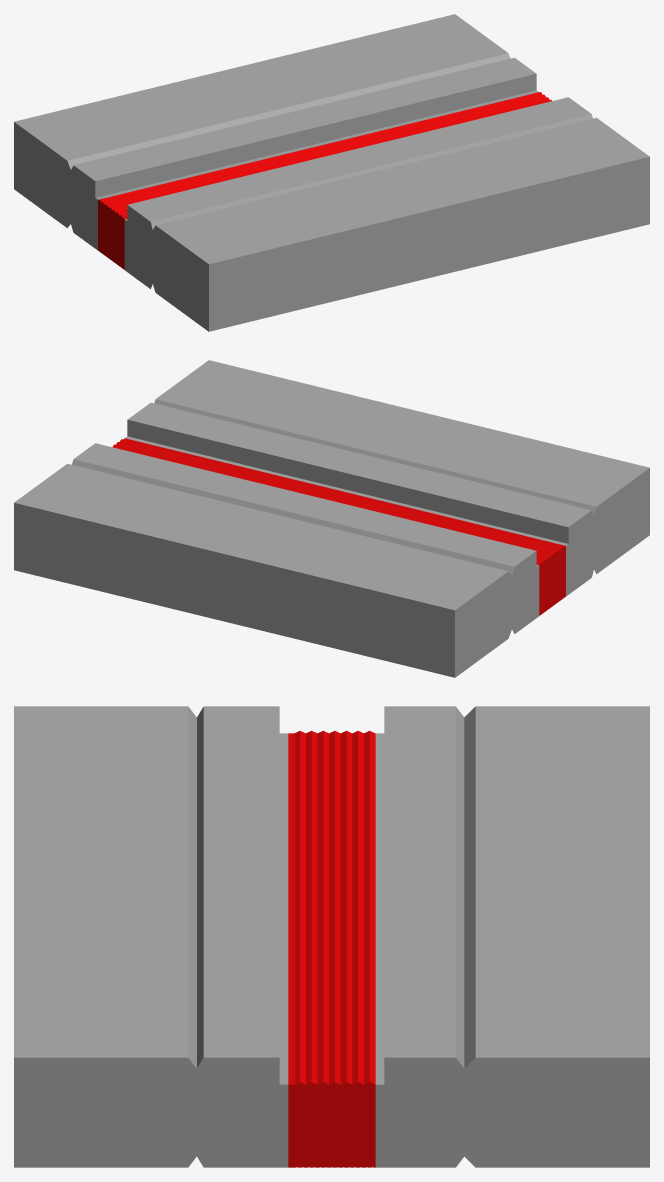
File: Wall.fbx
The picture shows the model from 3 angles, top to bottom: view 1: azimuth 30°, elevation 25°; view 2: azimuth 150°, elevation 25°; view 3: azimuth 270°, elevation 25°; orthographic projection. The views are drawn at different scales.
Visible parts, largest first — view 1: pWall; view 2: pWall; view 3: pWall.
Part boxes in pixels (x1,y1,x2,y2): pWall: (14, 14, 649, 331); pWall: (14, 360, 649, 677); pWall: (14, 706, 649, 1167).
Size of the model in its own units: 6.84 by 1 by 5.23.
